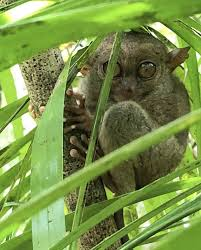tarsier: (65, 26, 191, 197)
